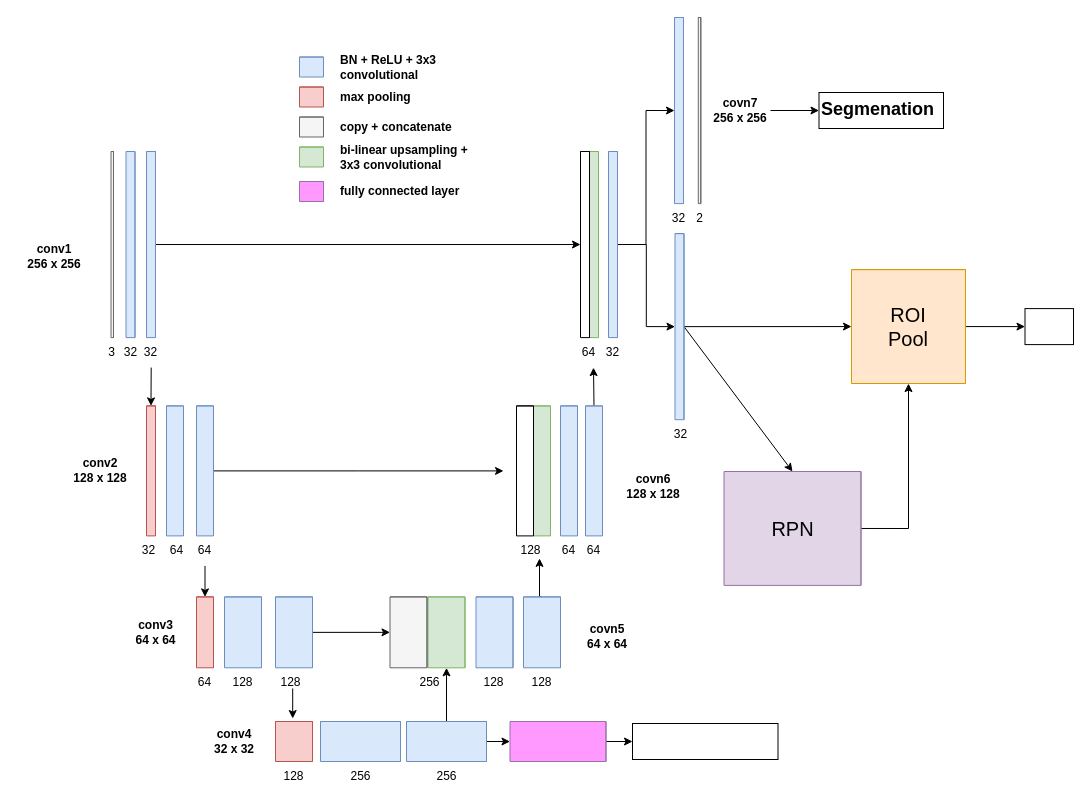
Some shapes in this 1092 by 809 pixel diagram are drawn without their labels. Here are the shapes that lost their labels. From the top down, the centre of each, then its label:
At (1049,326): "ROI".
At (705,741): "Binary classifier".
